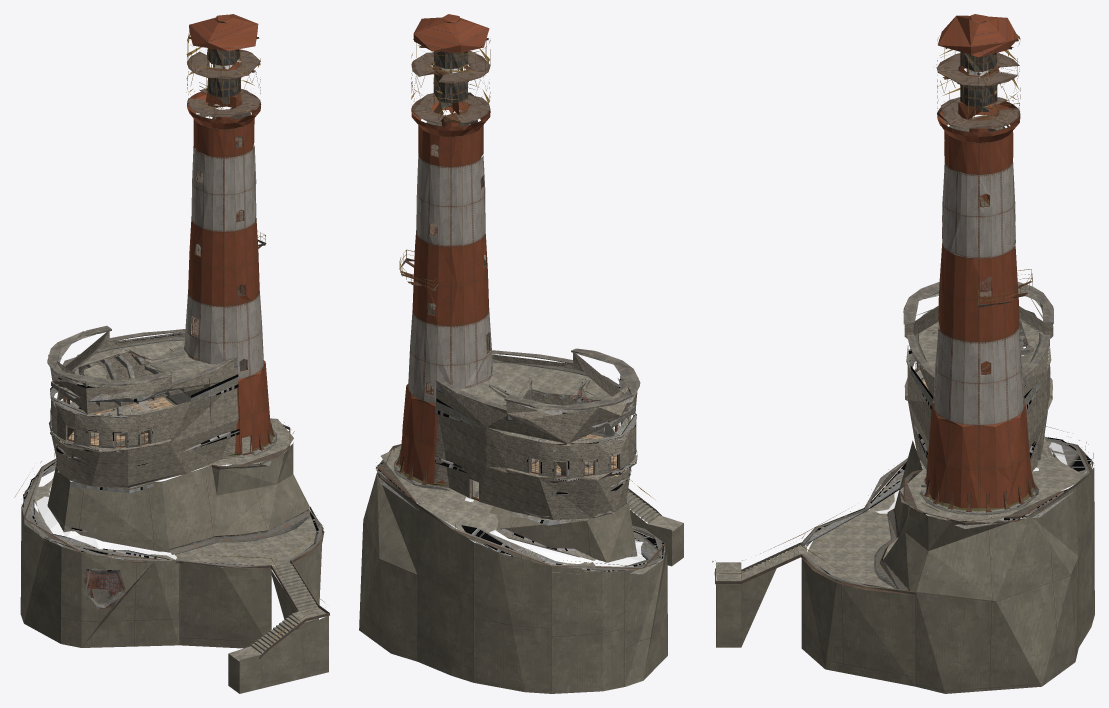
File: lighthouse-map.glb
3 views of the same model, side by side, from view 1: azimuth 30°, elevation 25°; view 2: azimuth 150°, elevation 25°; view 3: azimuth 270°, elevation 25° (orthographic). The views are drawn at different scales.
Parts seen in each view (by area): view 1: a_lighthouse_ext_LOD0, a_lighthouse_int_LOD0; view 2: a_lighthouse_ext_LOD0, a_lighthouse_int_LOD0; view 3: a_lighthouse_ext_LOD0, a_lighthouse_int_LOD0.
Part boxes in pixels (<box>): a_lighthouse_ext_LOD0: <box>14,32,329,693</box>; a_lighthouse_int_LOD0: <box>21,14,326,661</box>; a_lighthouse_ext_LOD0: <box>359,40,683,693</box>; a_lighthouse_int_LOD0: <box>376,14,683,574</box>; a_lighthouse_ext_LOD0: <box>712,28,1094,693</box>; a_lighthouse_int_LOD0: <box>716,14,1092,590</box>.
Bounding box in the file's own units: 34.2 × 69.55 × 37.88.
18 materials, 17 textured.
